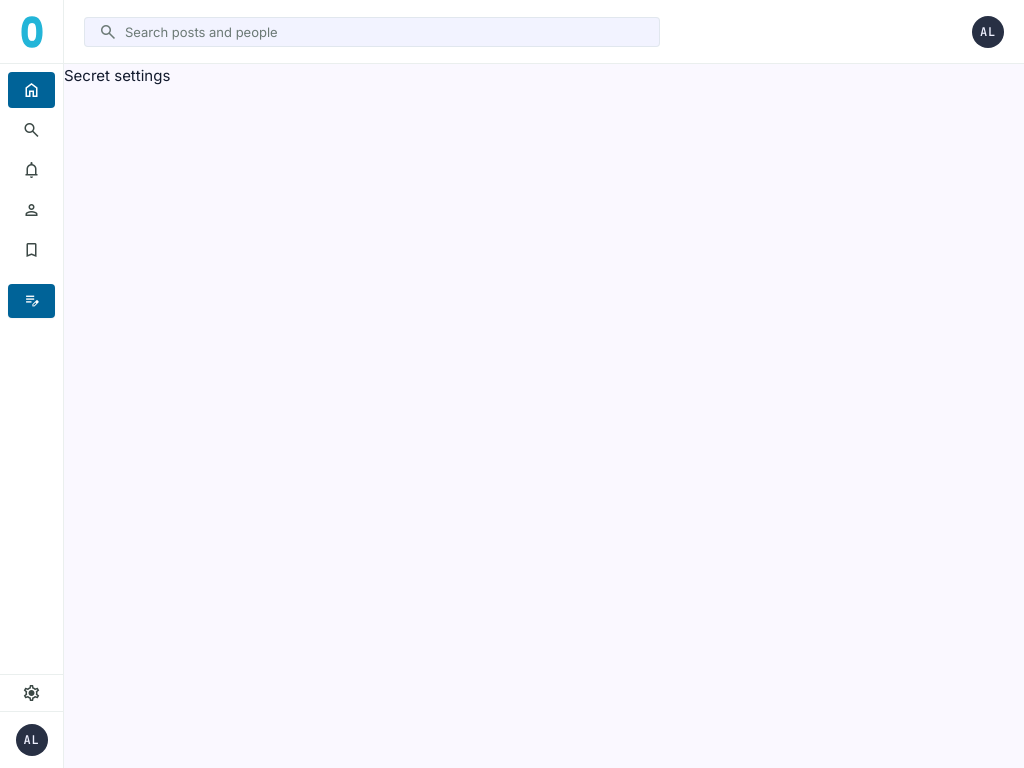
Scenario: (app) layout, the composer (Part 4) › opens the composer from the rail's New post button
Click the button named "New post": (32, 301) x1=8 y1=284 x2=55 y2=318
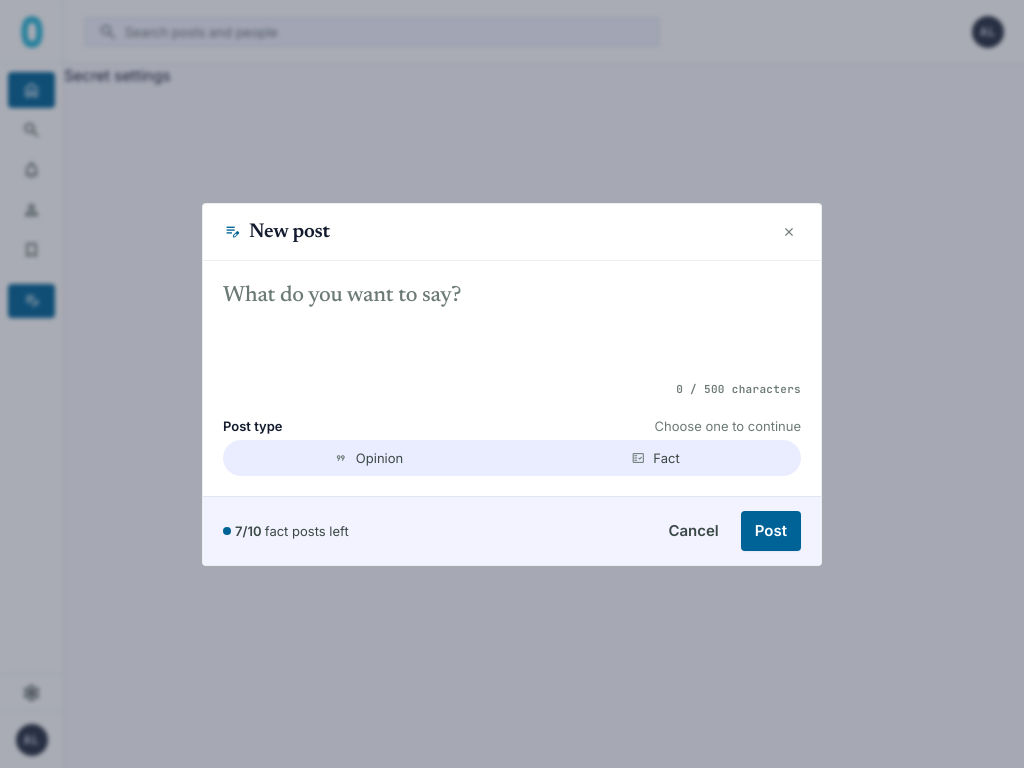
Expected: the dialog "New post" is shown, x1=202 y1=202 x2=822 y2=566
Expected: the text "7/10 fact posts left" is shown, x1=235 y1=520 x2=349 y2=540
